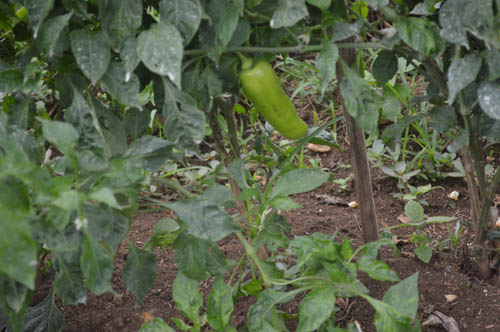ChiliPepper: (241, 66, 310, 143)
